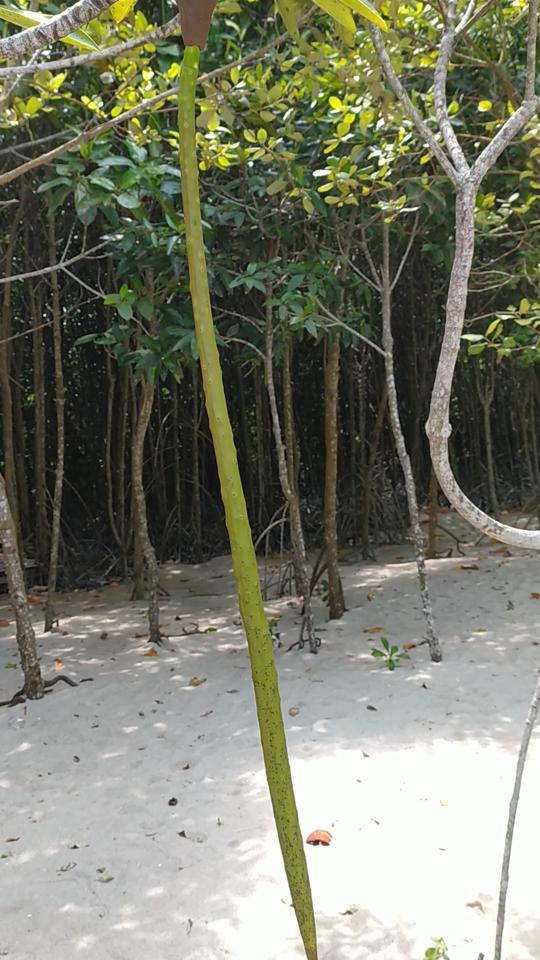mentah: (153, 1, 334, 958)
